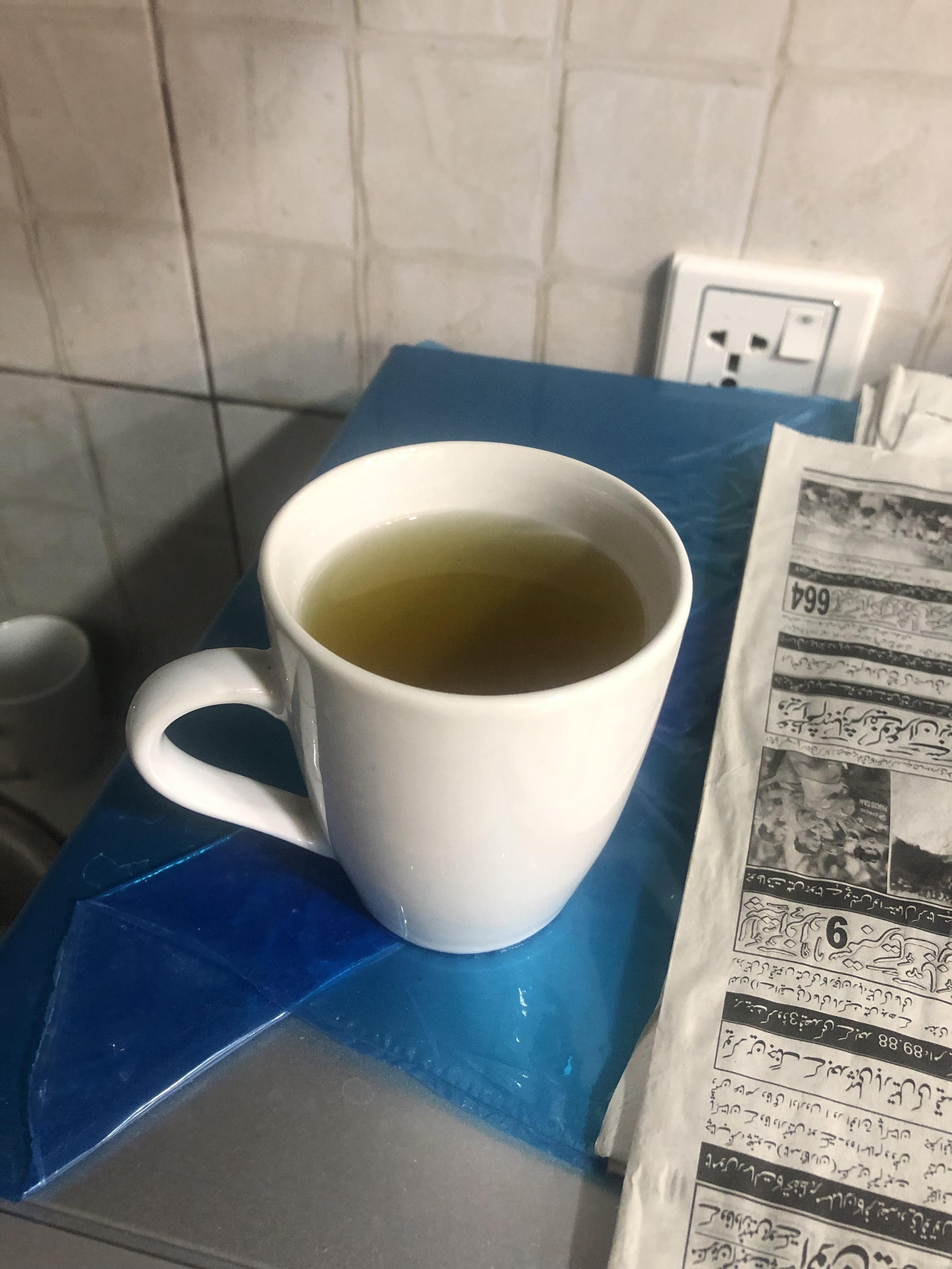cup-handle: (121, 432, 706, 957)
